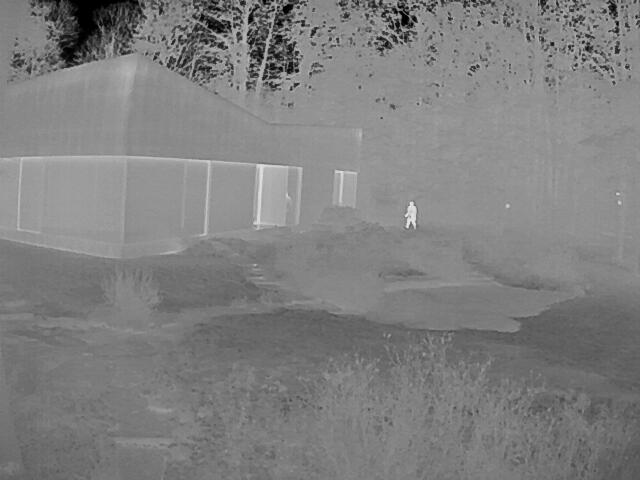person: (403, 200, 419, 229)
